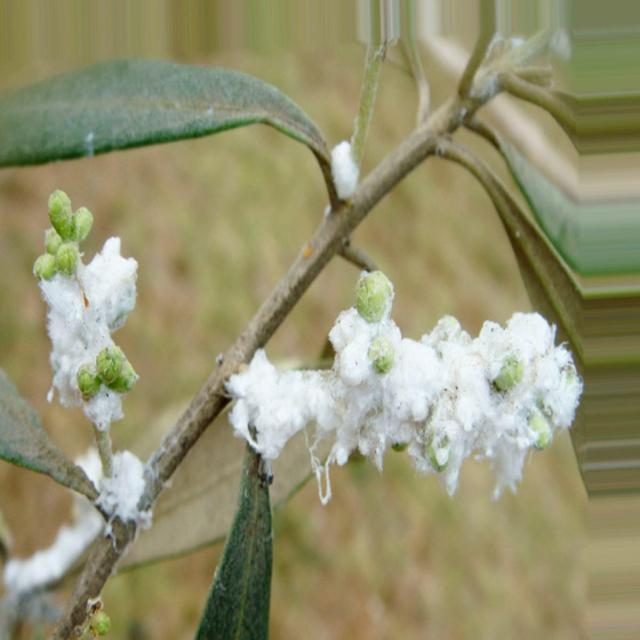Psyllid: (226, 266, 584, 504), (33, 190, 139, 450), (94, 451, 153, 548), (330, 124, 368, 200)
